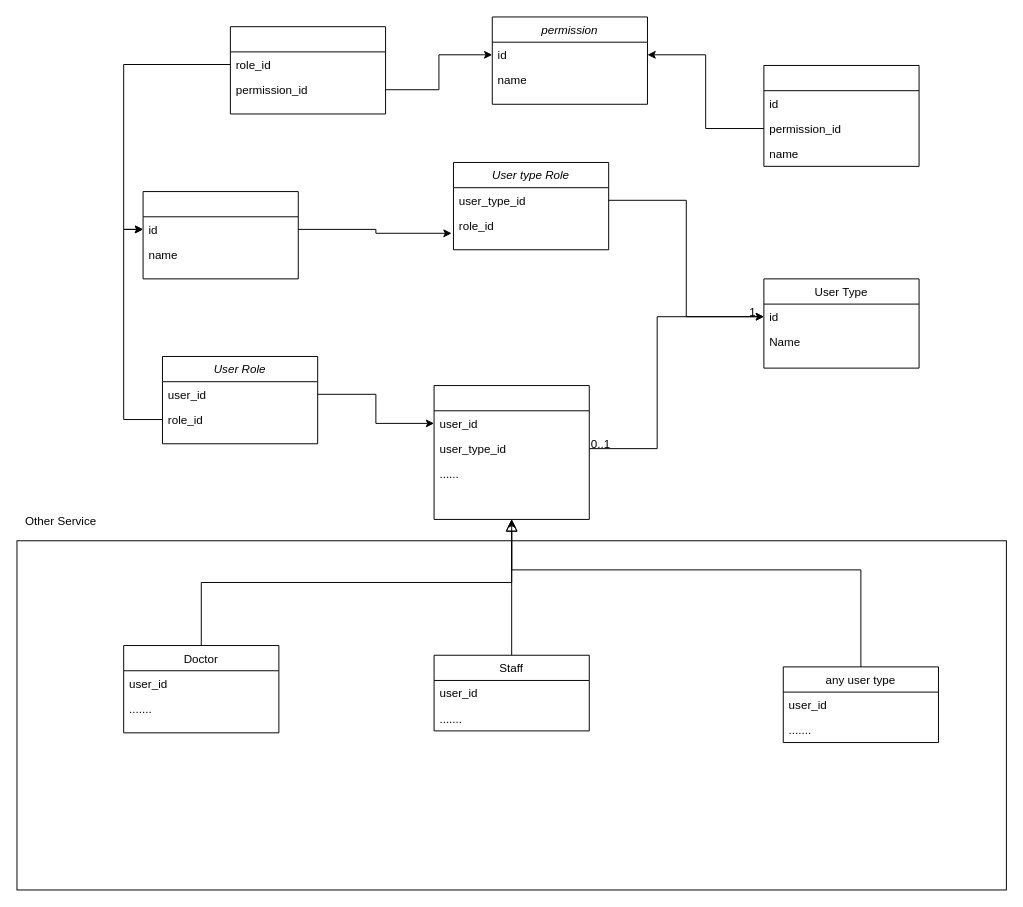
Some shapes in this 1023 by 907 pixel diagram are drawn without their labels. The shapes that lost their labels are listed below. From the top down, each one's box as (x1, y1, x2, y2) in pixels, then its label:
(229, 26, 386, 114): role permission
(763, 65, 919, 166): permission_detail
(142, 191, 298, 279): Role
(433, 385, 589, 519): Users
